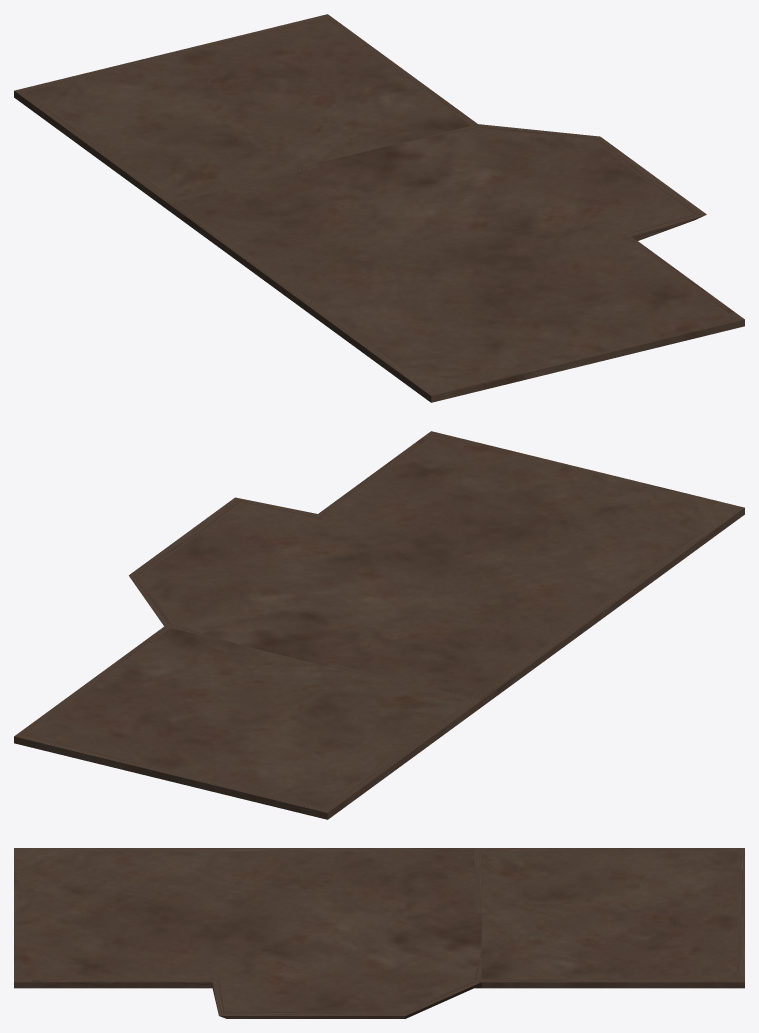
File: SanMap1.fbx
3 views of the same model, one above another, from view 1: azimuth 30°, elevation 25°; view 2: azimuth 150°, elevation 25°; view 3: azimuth 270°, elevation 25° (orthographic). The views are drawn at different scales.
Parts seen in each view (by area): view 1: House; view 2: House; view 3: House.
Boxes of the visible parts, bbox=[...] form: House: bbox=[14, 14, 744, 402]; House: bbox=[14, 431, 744, 819]; House: bbox=[14, 848, 744, 1018].
Bounding box in the file's own units: 724 × 12 × 1331.
1 material, 1 textured.
